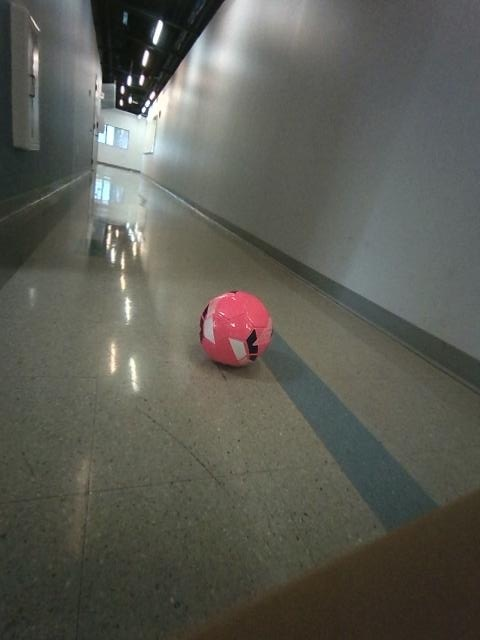ball: (200, 291, 271, 365)
